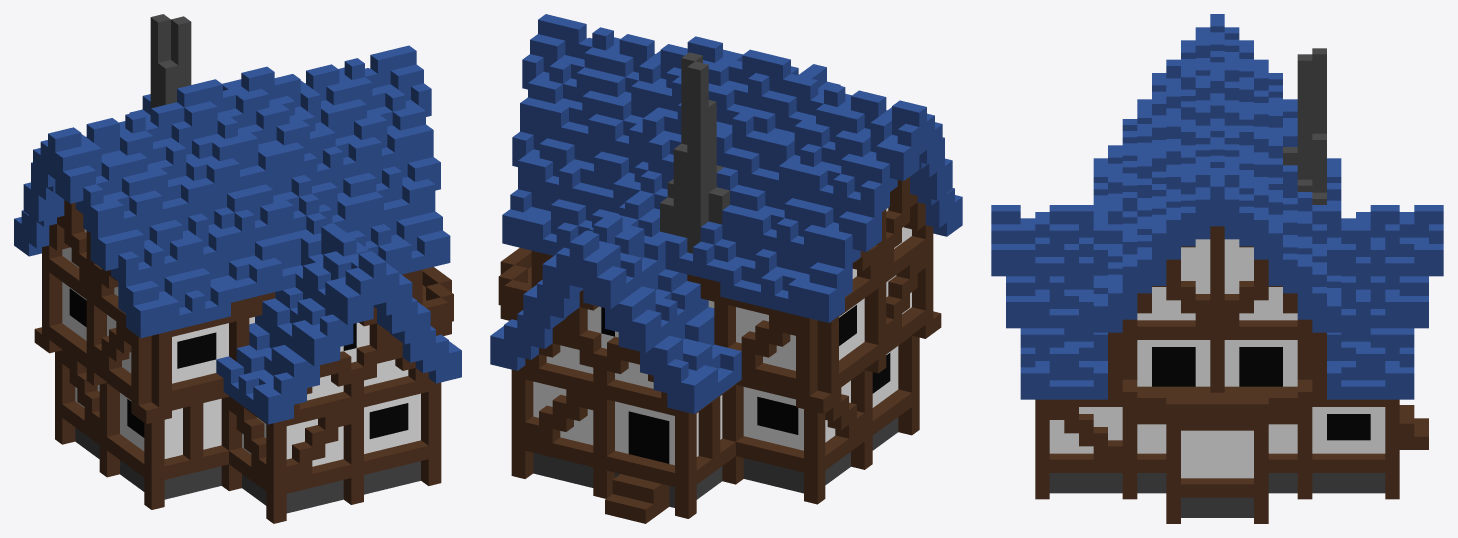
Rendered from house13.fbx.
3 views of the same model, side by side, from view 1: azimuth 30°, elevation 25°; view 2: azimuth 150°, elevation 25°; view 3: azimuth 270°, elevation 25° (orthographic). The views are drawn at different scales.
Parts seen in each view (by area): view 1: house1-16; view 2: house1-16; view 3: house1-16.
Part boxes in pixels (x1,y1,x2,y2): house1-16: (14, 14, 461, 523); house1-16: (490, 14, 962, 523); house1-16: (991, 14, 1443, 523).
Size of the model in its own units: 2900 by 2900 by 3100.
